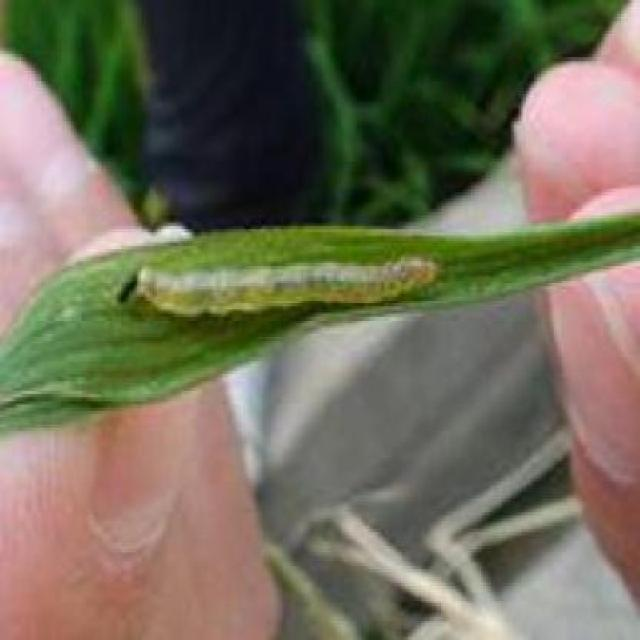leaf-folder: (107, 228, 522, 334)
